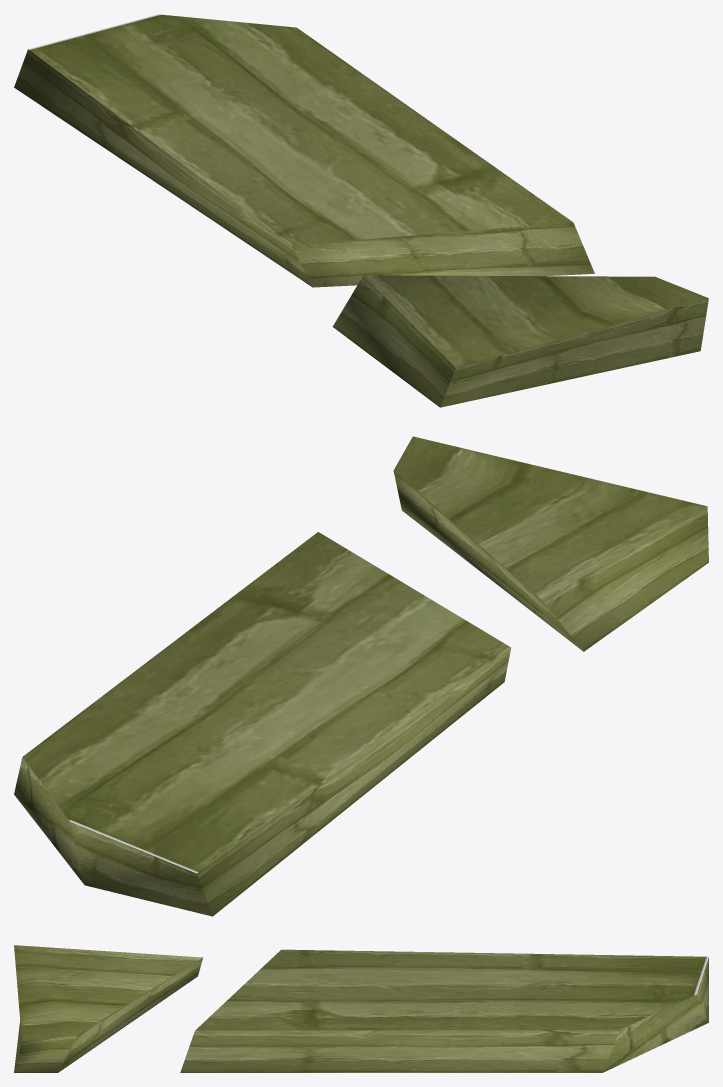
File: shamo_wujian_zhuan3.fbx
The picture shows the model from 3 angles, top to bottom: view 1: azimuth 30°, elevation 25°; view 2: azimuth 150°, elevation 25°; view 3: azimuth 270°, elevation 25°; orthographic projection. The views are drawn at different scales.
Visible parts, largest first — view 1: pCube64; view 2: pCube64; view 3: pCube64.
Part boxes in pixels (x1,y1,x2,y2): pCube64: [14, 14, 708, 407]; pCube64: [14, 436, 708, 916]; pCube64: [14, 945, 708, 1072].
Size of the model in its own units: 1.09 by 0.1856 by 3.13.
